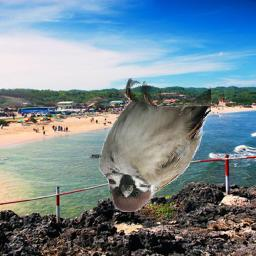Sparrow: (99, 78, 211, 212)
